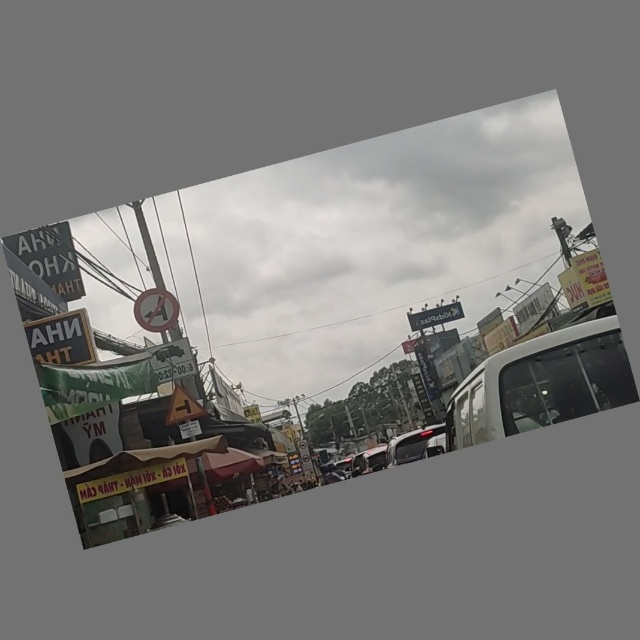P.139: (131, 285, 183, 335)
S.505a*Xe tai: (143, 340, 198, 385)
W.205b: (158, 381, 207, 426)
